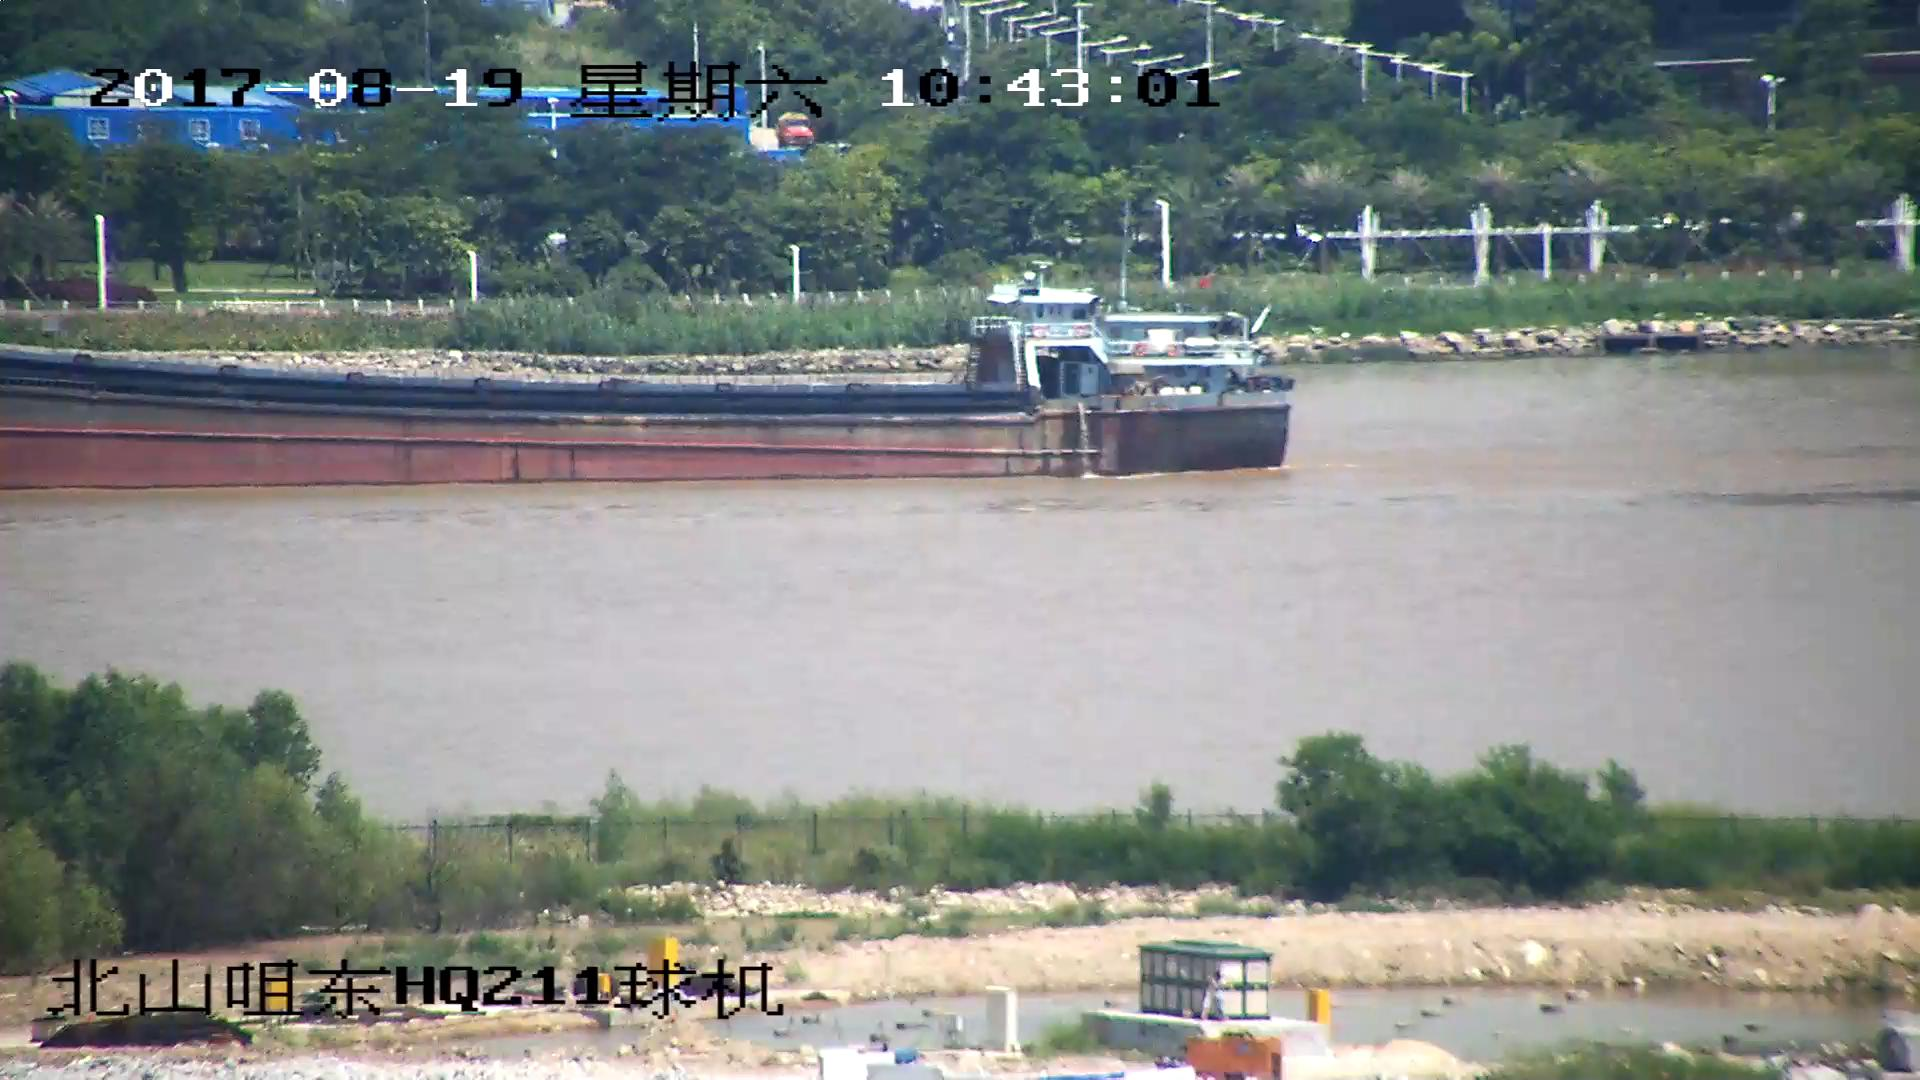bulk cargo carrier: (1, 256, 1297, 490)
